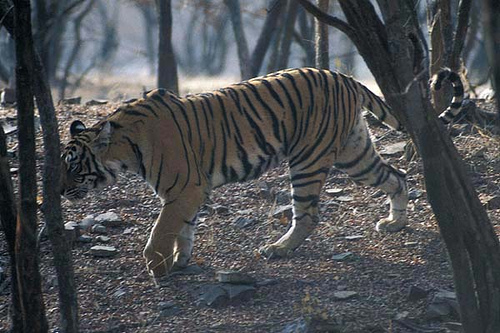Tigre: (65, 71, 423, 287)
